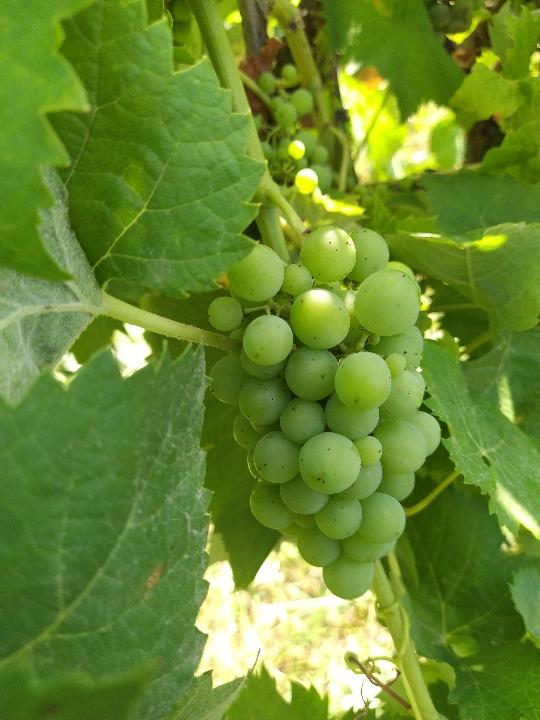grape: (210, 222, 443, 597)
